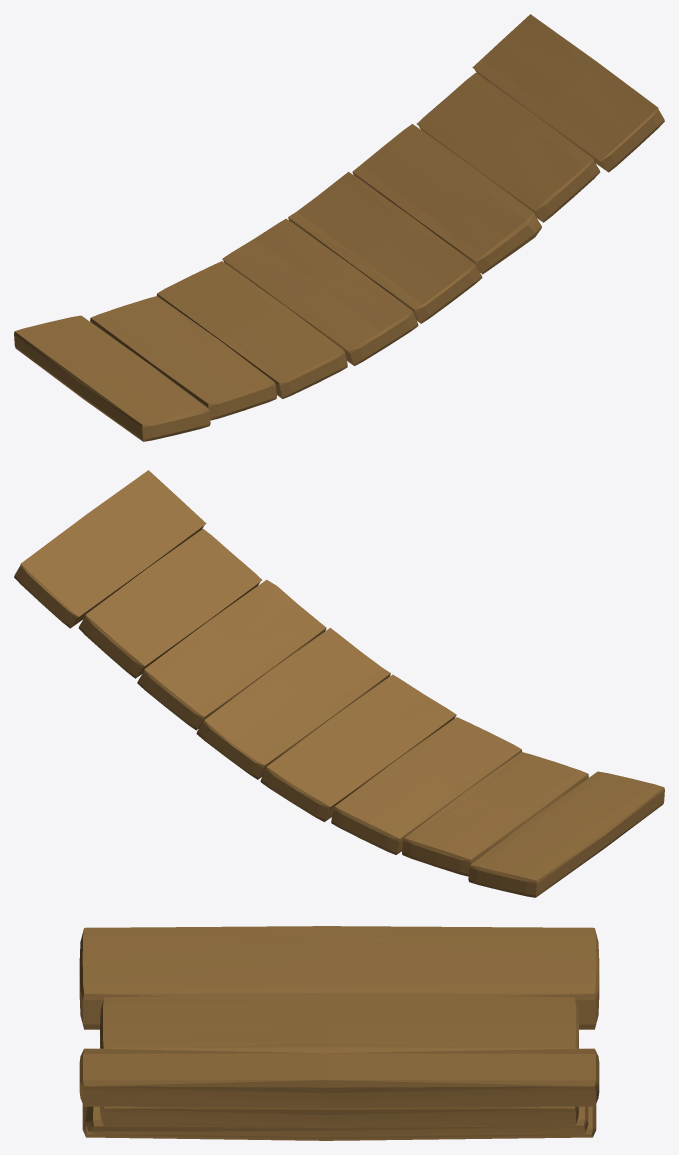
File: Ramp.glb
The picture shows the model from 3 angles, top to bottom: view 1: azimuth 30°, elevation 25°; view 2: azimuth 150°, elevation 25°; view 3: azimuth 270°, elevation 25°; orthographic projection. The views are drawn at different scales.
Parts seen in each view (by area): view 1: Bridge_Small; view 2: Bridge_Small; view 3: Bridge_Small.
Part boxes in pixels (x1,y1,x2,y2): Bridge_Small: (14, 14, 664, 441); Bridge_Small: (14, 470, 664, 897); Bridge_Small: (79, 926, 599, 1140).
Size of the model in its own units: 6.16 by 2.38 by 2.64.
